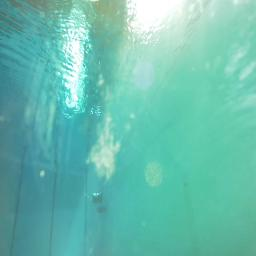Full: (94, 205, 106, 214)
front: (92, 192, 104, 205)
